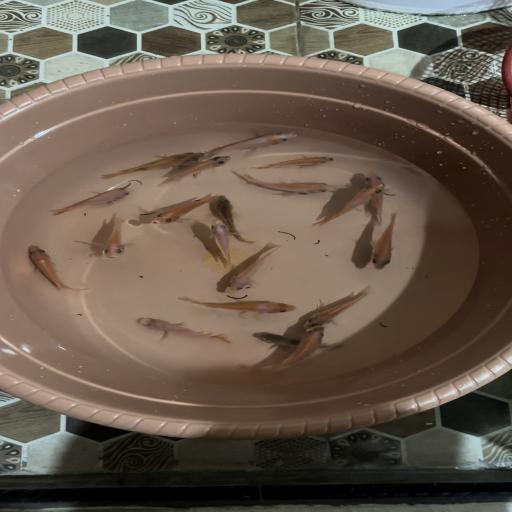nila: (215, 243, 293, 296), (247, 325, 328, 375), (20, 242, 90, 296), (298, 284, 379, 329), (310, 182, 384, 228), (130, 316, 235, 348), (174, 293, 299, 318), (95, 150, 204, 178), (203, 130, 300, 157), (157, 155, 232, 189), (54, 186, 136, 217), (365, 212, 406, 272), (237, 171, 339, 195), (210, 193, 258, 243), (150, 197, 216, 229), (93, 214, 136, 263), (252, 332, 347, 352), (203, 218, 236, 266), (360, 170, 390, 222), (253, 155, 336, 172)
